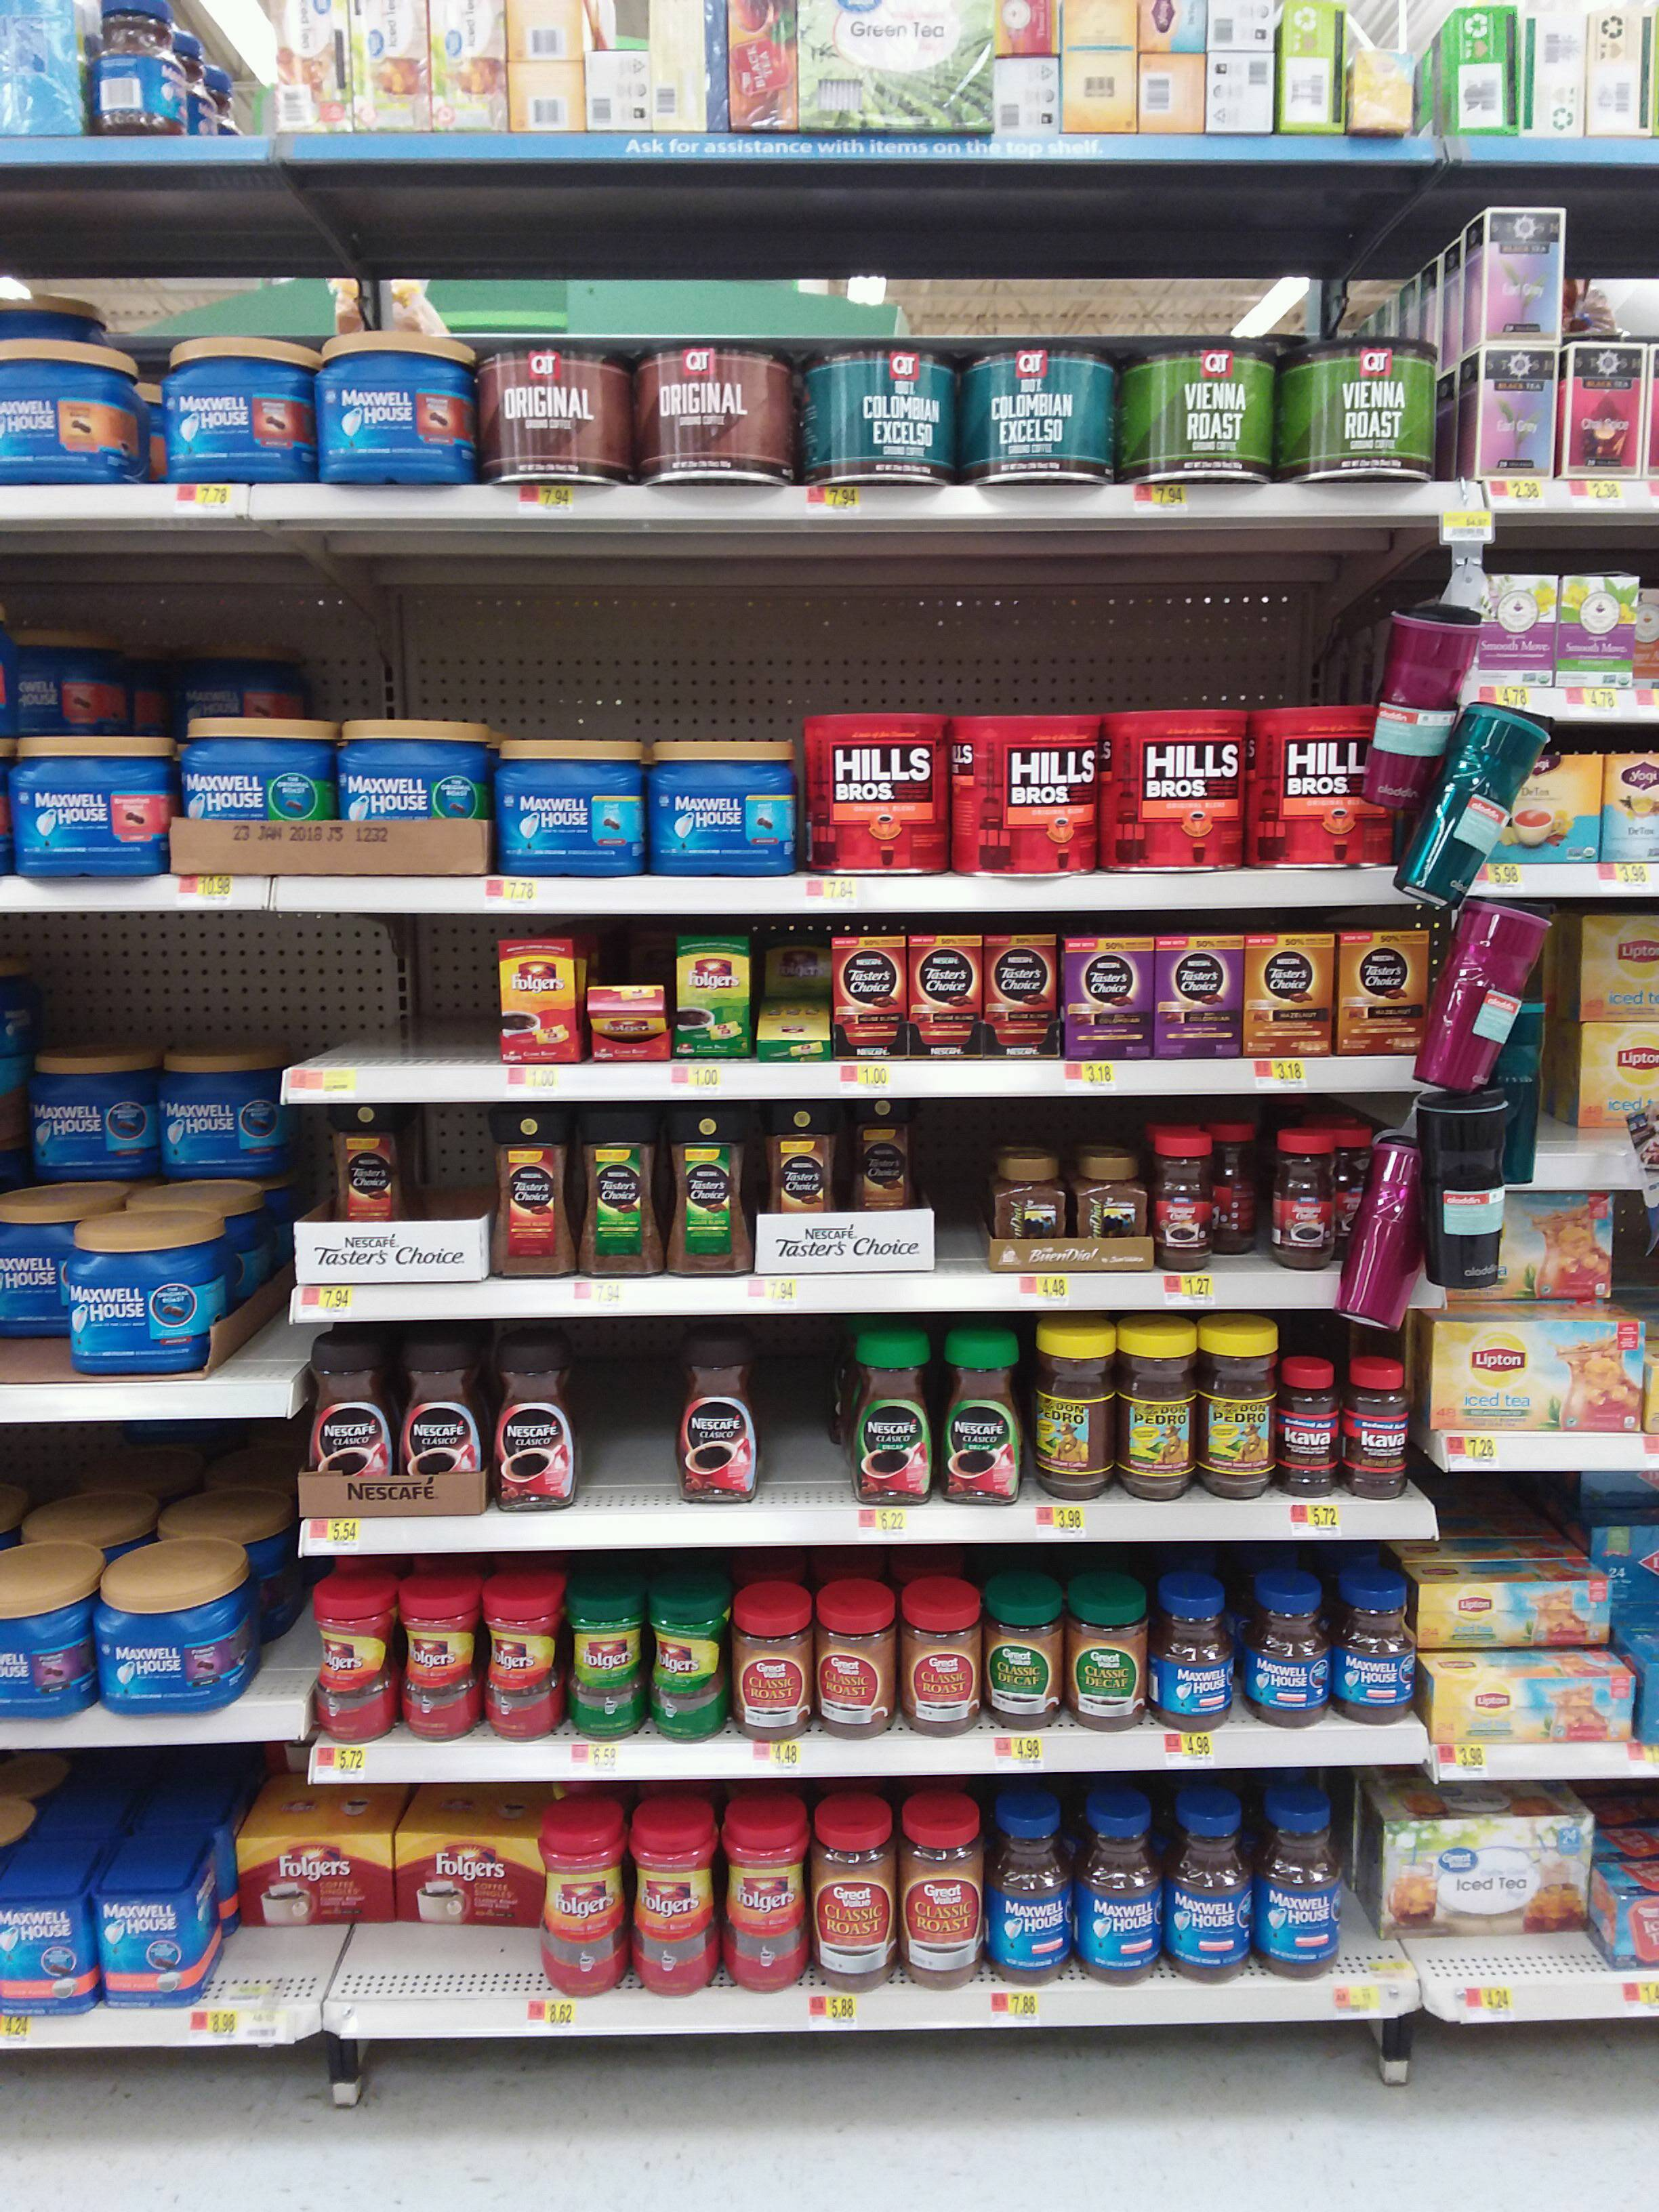product: (1375, 1803, 1589, 1935), (1248, 709, 1391, 874), (803, 718, 950, 878), (1424, 1317, 1629, 1430), (181, 719, 336, 869), (953, 714, 1098, 873), (633, 347, 793, 489), (955, 352, 1119, 489), (315, 336, 465, 482), (1107, 709, 1243, 867), (340, 719, 481, 869), (479, 341, 624, 486), (1126, 345, 1279, 481), (2, 341, 148, 482), (803, 348, 946, 489), (19, 740, 164, 880), (160, 341, 308, 477), (498, 740, 641, 880), (650, 738, 796, 873), (1295, 338, 1434, 477), (84, 1578, 228, 1707), (73, 1235, 209, 1360), (896, 1811, 990, 1987), (1432, 1662, 1631, 1743), (1262, 1797, 1347, 1987), (319, 1104, 408, 1285), (150, 1050, 277, 1176), (490, 1338, 579, 1514), (1032, 1322, 1119, 1501), (1075, 1803, 1162, 1982), (676, 1339, 765, 1514), (1166, 1806, 1255, 1977), (308, 1338, 394, 1514), (850, 1329, 934, 1508), (542, 1817, 626, 1996), (396, 1825, 537, 1932), (843, 1099, 932, 1266), (723, 1811, 807, 1989), (810, 1811, 894, 1989), (1117, 1318, 1197, 1501), (669, 1101, 753, 1275), (401, 1338, 483, 1514), (30, 1047, 143, 1174), (631, 1817, 714, 1987), (582, 1104, 664, 1277), (493, 1108, 575, 1280), (235, 1832, 387, 1925), (389, 1583, 477, 1740), (1199, 1318, 1276, 1500), (993, 1803, 1070, 1980), (943, 1338, 1023, 1507), (310, 1578, 390, 1742), (763, 1101, 838, 1271), (645, 1581, 725, 1740), (1424, 1578, 1615, 1644), (92, 1890, 200, 2005), (1159, 1578, 1241, 1730), (1499, 1195, 1622, 1294), (484, 1592, 565, 1743), (812, 1592, 896, 1737), (1150, 928, 1243, 1059), (1337, 930, 1432, 1055), (0, 1888, 91, 2019), (1481, 206, 1567, 343), (896, 1597, 981, 1735), (1251, 1583, 1333, 1724), (734, 1592, 810, 1742), (990, 1588, 1068, 1733), (1338, 1581, 1419, 1723), (568, 1583, 640, 1737), (0, 1588, 82, 1721), (1072, 1588, 1148, 1730), (495, 934, 577, 1064), (1565, 347, 1647, 474), (1246, 934, 1330, 1057), (671, 928, 751, 1057), (983, 930, 1065, 1055), (1065, 930, 1147, 1055), (1511, 752, 1603, 862), (993, 1144, 1068, 1273), (1556, 571, 1636, 690), (831, 934, 904, 1062), (0, 1212, 68, 1345), (906, 932, 979, 1052), (1486, 352, 1554, 481), (1349, 1359, 1410, 1501), (1277, 1125, 1338, 1268), (758, 944, 831, 1062), (1072, 1153, 1147, 1264), (1579, 918, 1659, 1019), (1154, 1134, 1211, 1273), (1574, 1026, 1659, 1118), (1488, 571, 1554, 688), (1284, 1357, 1338, 1498), (1213, 1115, 1262, 1261), (584, 981, 669, 1061), (1605, 751, 1659, 855)
